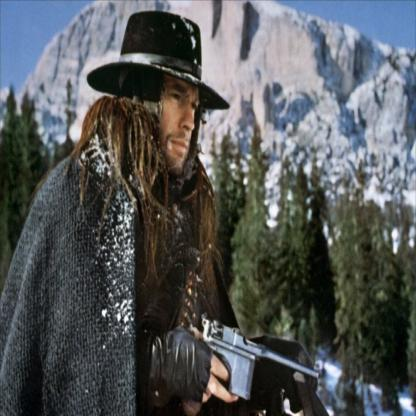Pistol: (198, 311, 322, 402)
